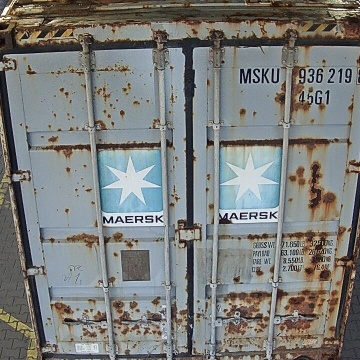serial_id: (240, 67, 360, 83)
